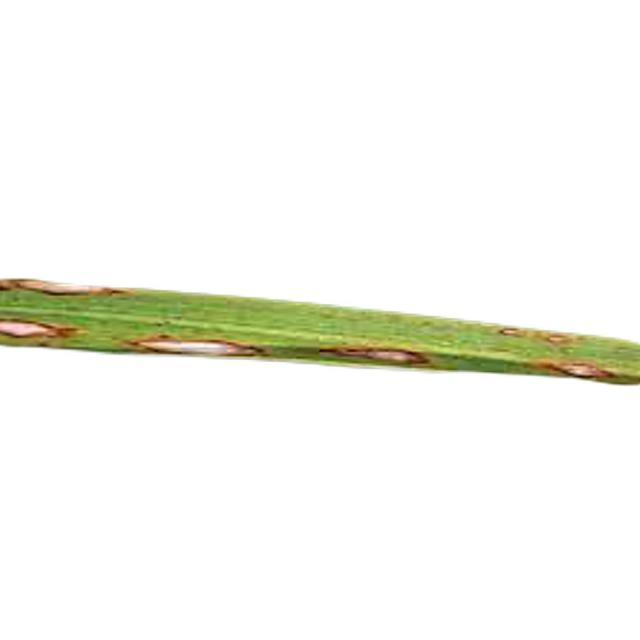Leaf_Blast: (312, 332, 461, 383), (127, 324, 267, 374), (4, 245, 120, 300), (471, 307, 588, 359), (531, 340, 610, 386), (0, 312, 72, 349)
